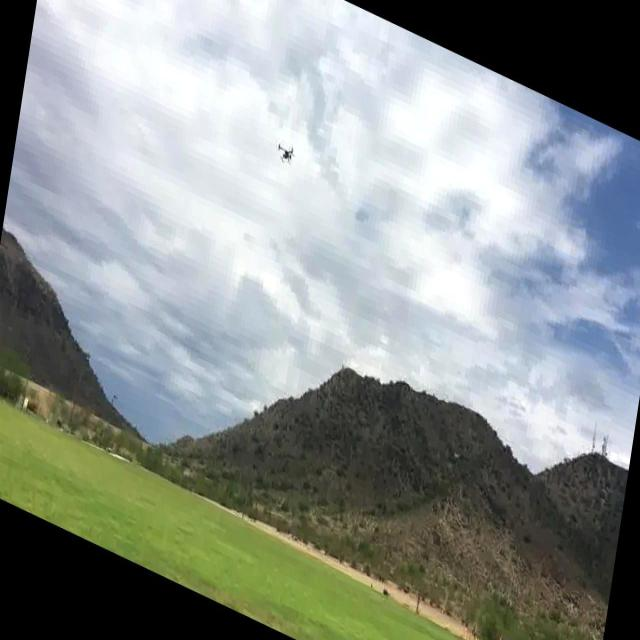drone: (275, 138, 296, 168)
